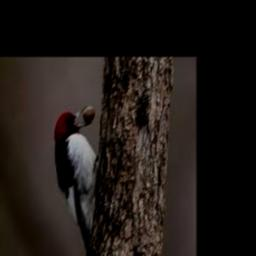Woodpecker: (54, 105, 98, 256)
